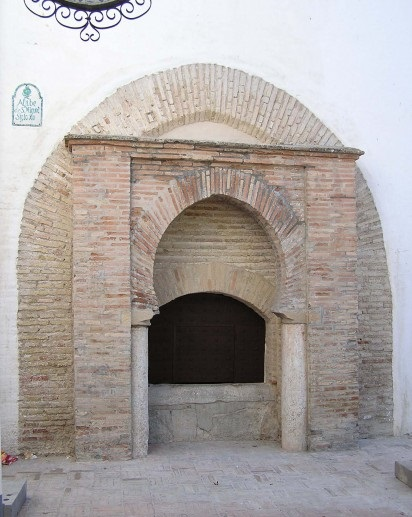arco-herradura: (141, 190, 296, 333)
